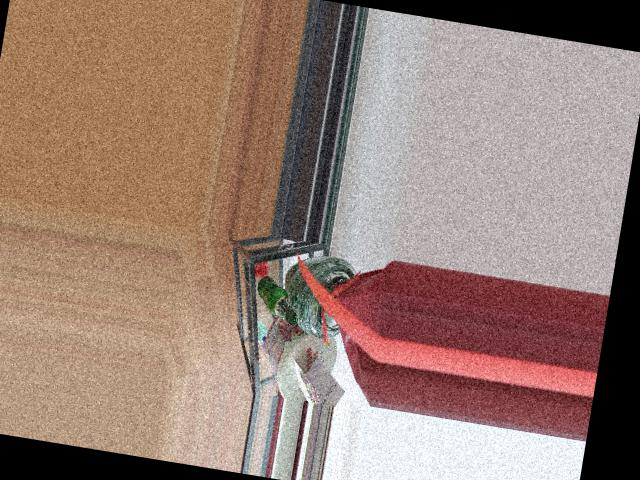beer: (252, 273, 303, 326)
